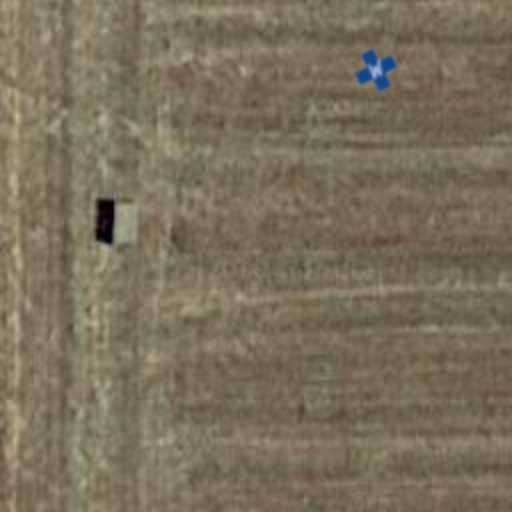cross: (348, 42, 404, 98)
